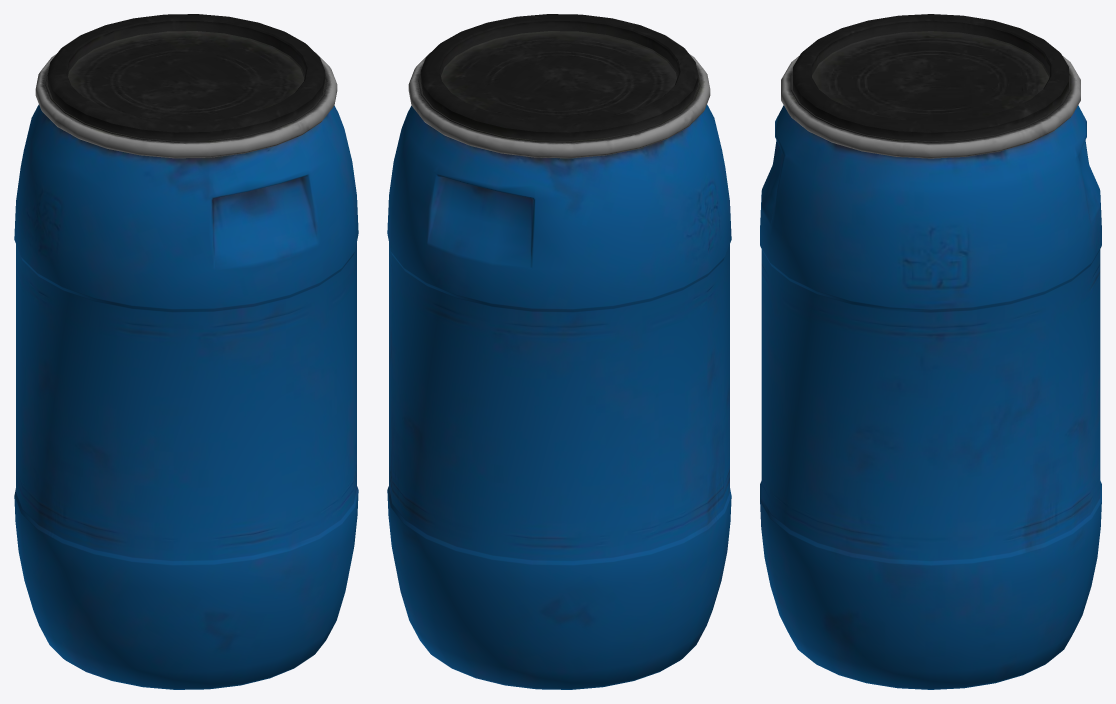
File: Barrel_02.glb
The picture shows the model from 3 angles, left to right: view 1: azimuth 30°, elevation 25°; view 2: azimuth 150°, elevation 25°; view 3: azimuth 270°, elevation 25°; orthographic projection.
Visible parts, largest first — view 1: Barrel_02; view 2: Barrel_02; view 3: Barrel_02.
Part boxes in pixels (x1=…): Barrel_02: x1=14, y1=14, x2=358, y2=689; Barrel_02: x1=387, y1=14, x2=731, y2=689; Barrel_02: x1=760, y1=14, x2=1101, y2=689.
Bounding box in the file's own units: 0.4882 × 0.88 × 0.4846.
1 material, 1 textured.
